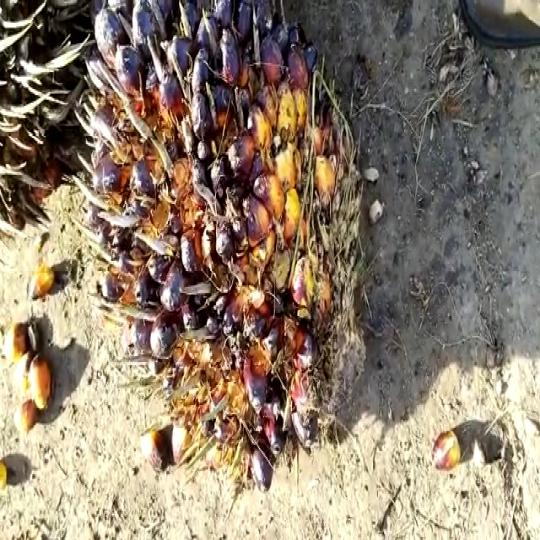masak: (86, 0, 384, 487)
